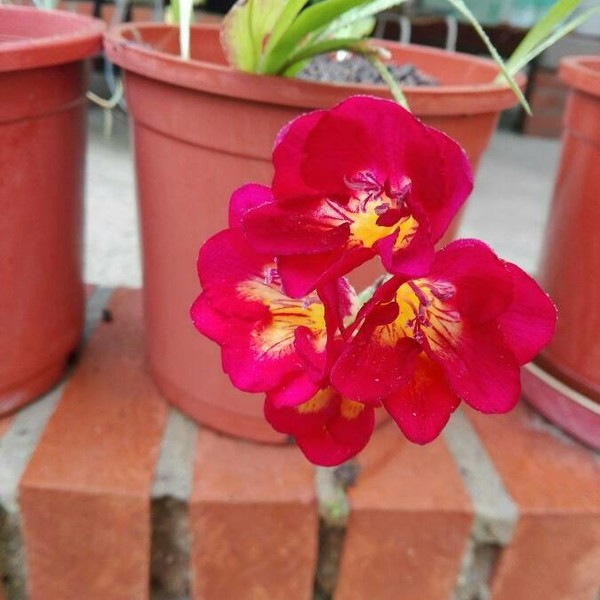obstacle: (114, 3, 544, 471)
